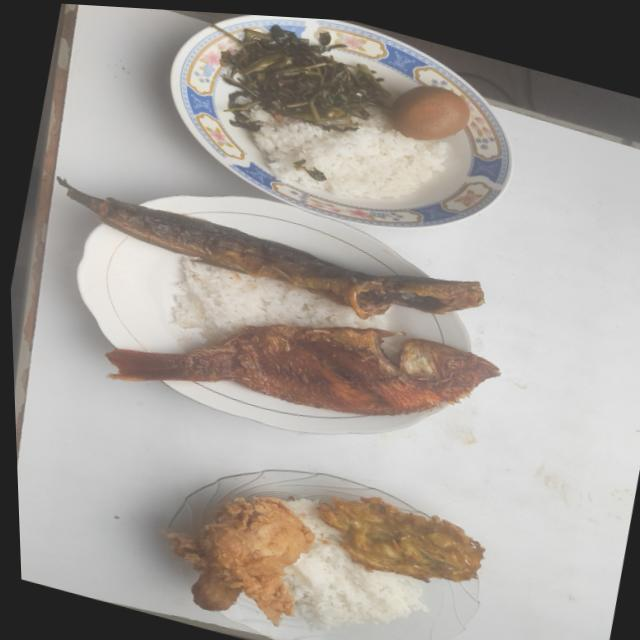ikan_mujair: (106, 324, 498, 416)
nasi_putih: (284, 500, 427, 630), (254, 108, 448, 199), (172, 260, 358, 340)
tumis_kangkung: (220, 25, 389, 131)
